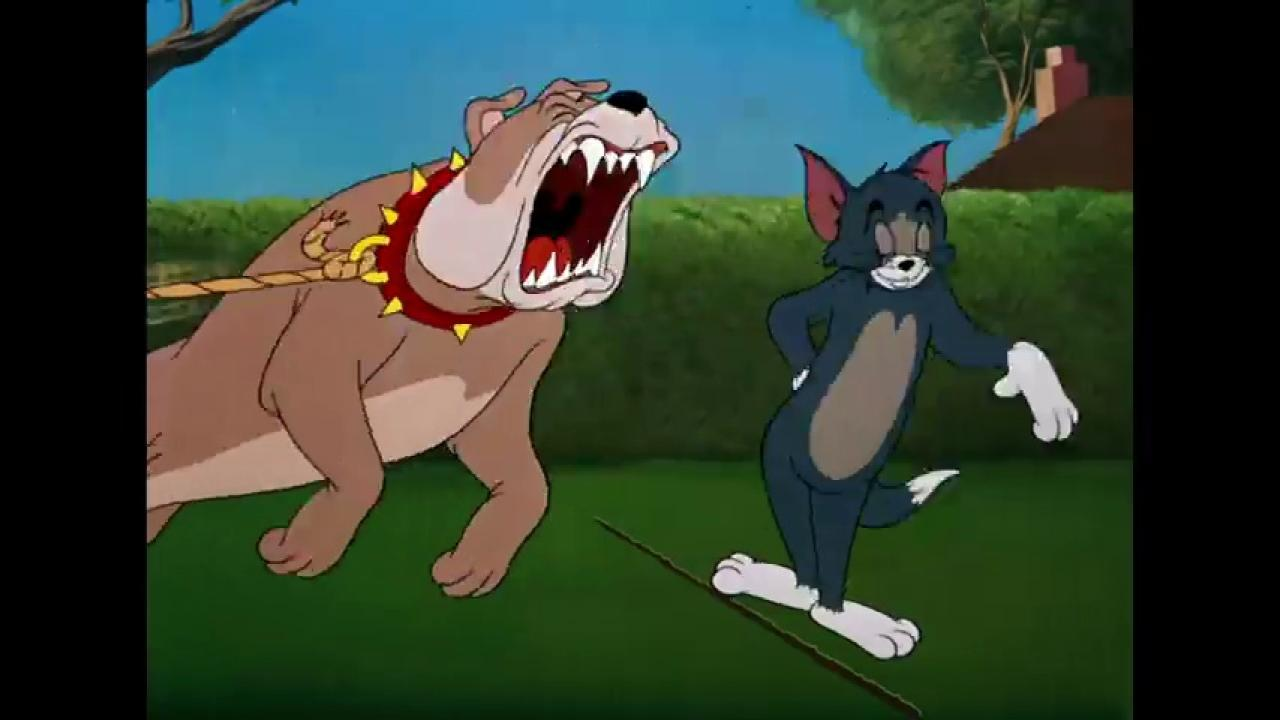Tom: (706, 136, 1082, 662)
